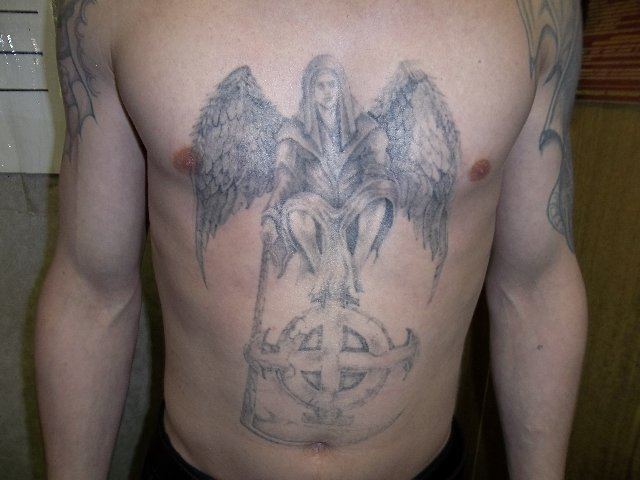tatu1_angel: (189, 41, 485, 313)
